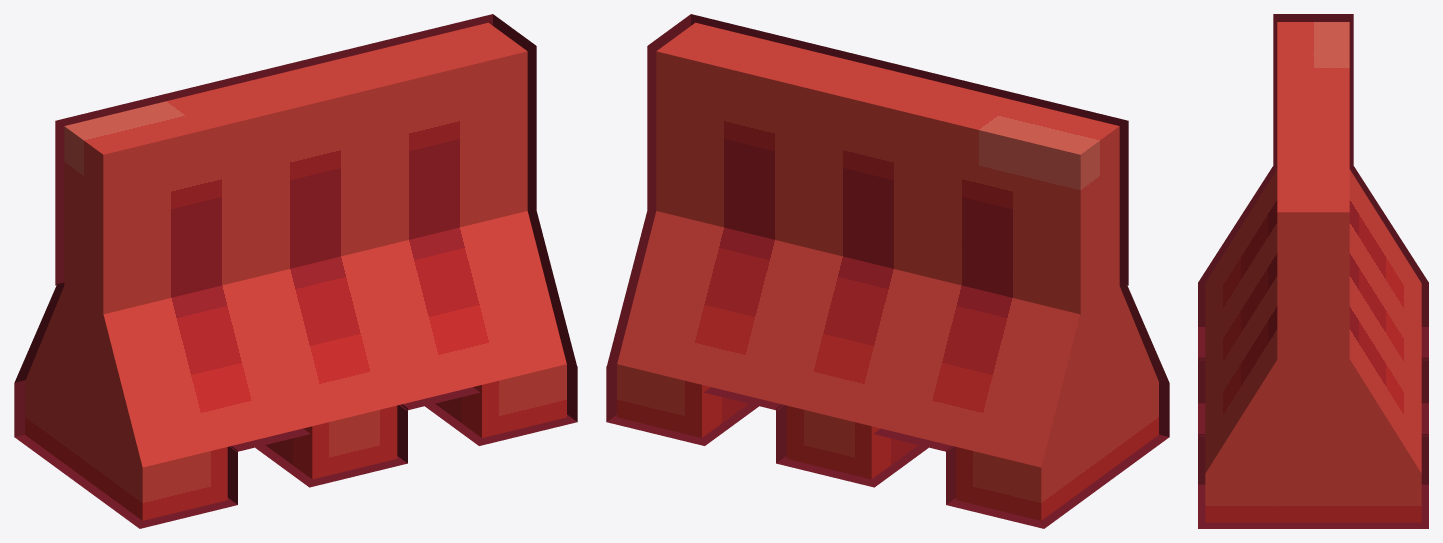
The model's file is PlasticFencingRed.gltf.
3 views of the same model, side by side, from view 1: azimuth 30°, elevation 25°; view 2: azimuth 150°, elevation 25°; view 3: azimuth 270°, elevation 25° (orthographic). The views are drawn at different scales.
Parts seen in each view (by area): view 1: cube (×3), cube_outline (×3); view 2: cube (×3), cube_outline (×3); view 3: cube (×2), cube_outline (×5).
Boxes of the visible parts, x1=… form: cube (×3): x1=25, y1=22, x2=566, y2=520; cube_outline (×3): x1=14, y1=14, x2=577, y2=528; cube (×3): x1=617, y1=22, x2=1158, y2=520; cube_outline (×3): x1=606, y1=14, x2=1169, y2=528; cube (×2): x1=1205, y1=22, x2=1421, y2=522; cube_outline (×5): x1=1198, y1=14, x2=1428, y2=528.
Bounding box in the file's own units: 1.61 × 1.22 × 0.8.
Materials: 2 (2 with a texture image).
